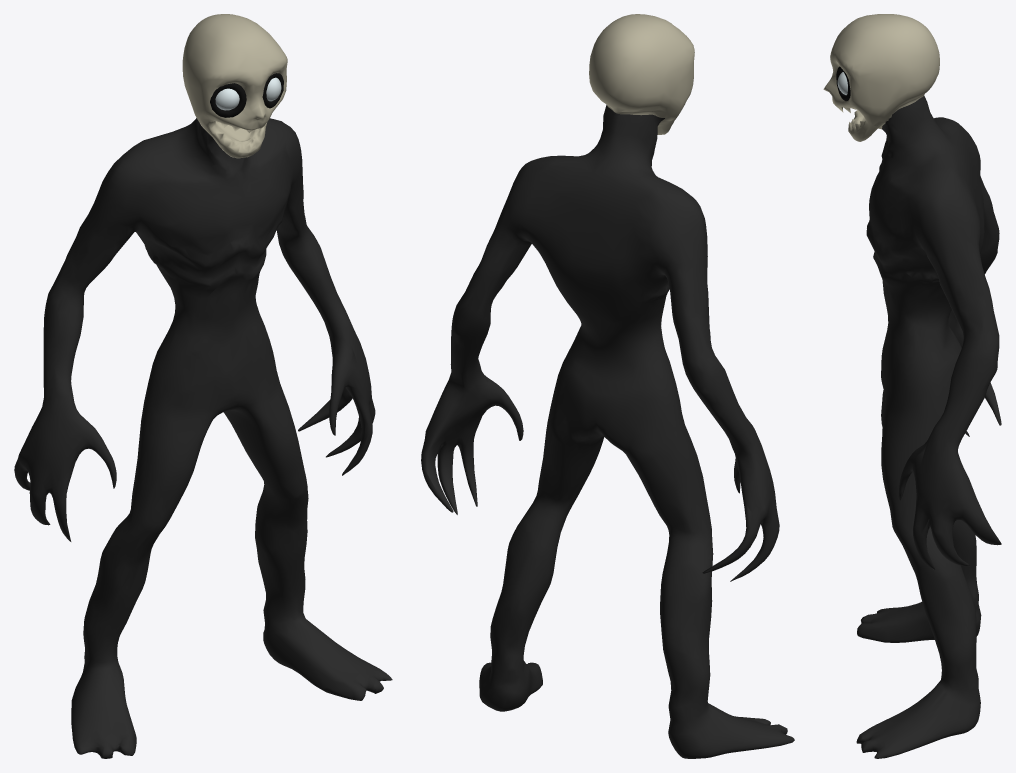
Rendered from MONSTERdENEME.fbx.
3 renders of one model, left to right at view 1: azimuth 30°, elevation 25°; view 2: azimuth 150°, elevation 25°; view 3: azimuth 270°, elevation 25°, orthographic. The views are drawn at different scales.
Visible parts, largest first — view 1: Rulet_Monster; view 2: Rulet_Monster; view 3: Rulet_Monster.
Boxes of the visible parts, <box> form: Rulet_Monster: <box>14,14,392,758</box>; Rulet_Monster: <box>421,14,794,758</box>; Rulet_Monster: <box>823,14,1001,758</box>.
Size of the model in its own units: 105 by 204 by 49.02.
